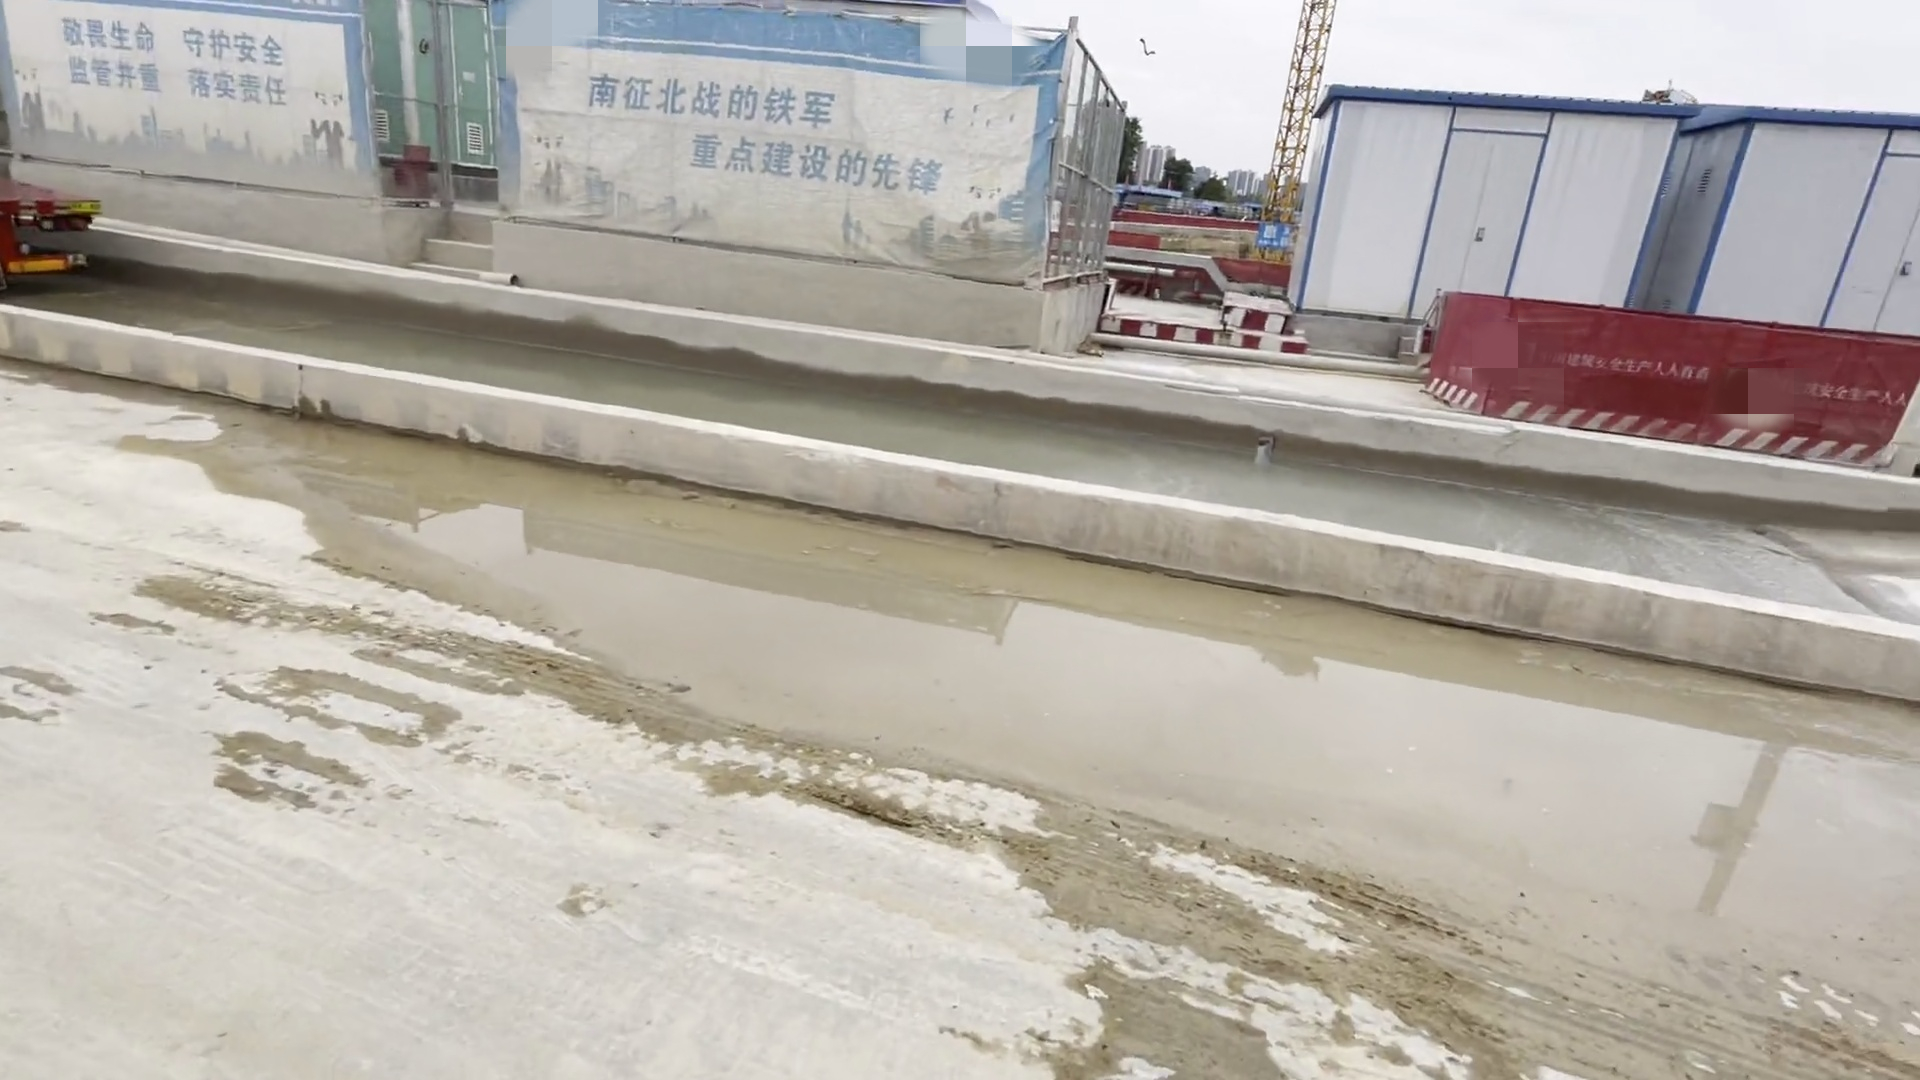fence: (1406, 285, 1899, 496)
slogan: (1, 9, 1058, 328)
